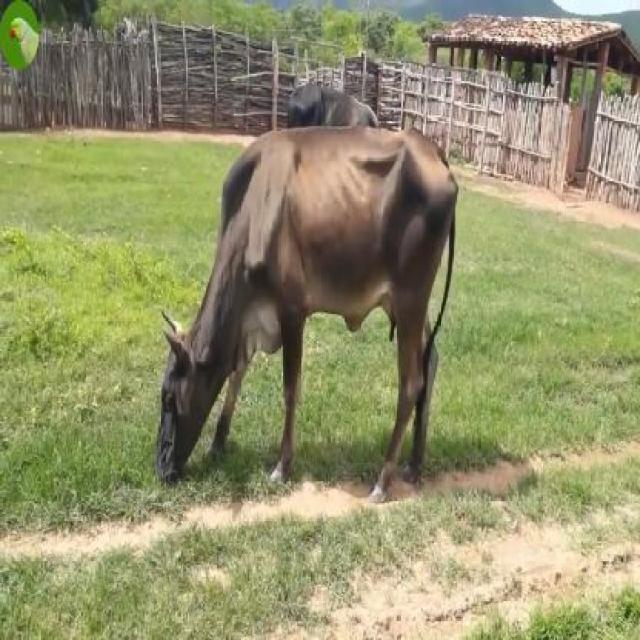Cow: (158, 128, 457, 495)
